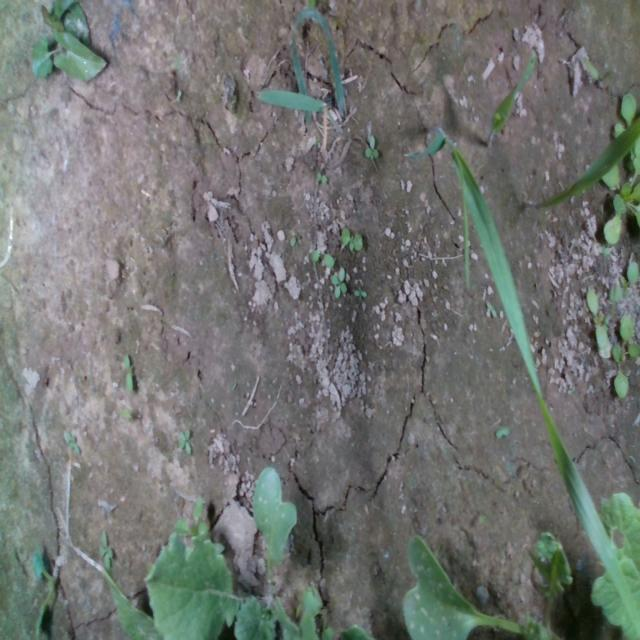weed: (95, 530, 115, 570), (338, 225, 364, 251), (175, 424, 192, 460), (332, 263, 348, 298), (123, 351, 135, 394), (309, 247, 334, 267), (365, 133, 379, 161)
